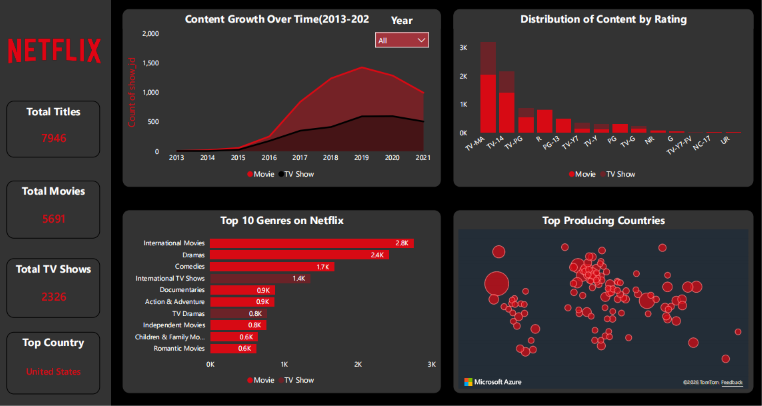

The page's visual inventory and layout, read from the dashboard file:
{"tool":"powerbi","page":{"name":"Netflix Content Overview Dashboard","canvas":[1350,720],"ordinal":0},"visuals":[{"type":"shape","box":[0,0,200,720],"z":0},{"type":"areaChart","title":"Content Growth Over Time(2013-2021)","fields":{"Y":["CountNonNull(netflix_titles.show_id)"],"Category":["netflix_titles.date_added.Variation.Date Hierarchy.Year"],"Series":["netflix_titles.type"]},"box":[218.8,19.2,563.7,316.2],"z":1000},{"type":"columnChart","title":"Distribution of Content by Rating ","fields":{"Category":["netflix_titles.rating"],"Y":["CountNonNull(netflix_titles.show_id)"],"Series":["netflix_titles.type"]},"box":[803.3,19.2,531.8,316.2],"z":2000},{"type":"barChart","title":"Top 10 Genres on Netflix","fields":{"Category":["netflix_listed_in.category"],"Series":["netflix_titles.type"],"Y":["CountNonNull(netflix_listed_in.show_id)"]},"box":[218.8,373.7,563.7,325.8],"z":3000},{"type":"azureMap","title":"Top Producing Countries","fields":{"Category":["countries_released.country"],"Size":["CountNonNull(countries_released.show_id)"]},"box":[803.3,373.7,531.8,325.8],"z":4000},{"type":"image","box":[0,0,200,181.7],"z":5000},{"type":"cardVisual","title":"Total Titles","fields":{"Data":["Count(countries_released.show_id)"]},"box":[15,181.7,165,100],"z":6000},{"type":"cardVisual","title":"Total Movies","fields":{"Data":["Count(countries_released.show_id)"]},"box":[15,323.3,165,101.7],"z":7000},{"type":"cardVisual","title":"Total TV Shows","fields":{"Data":["Count(netflix_cast.show_id)"]},"box":[15,460,165,105],"z":8000},{"type":"cardVisual","title":"Top Country","fields":{"Data":["Min(countries_released.country)"]},"box":[15,590,165,110],"z":9000},{"type":"slicer","title":"Year","fields":{"Values":["netflix_titles.date_added.Variation.Date Hierarchy.Year","netflix_titles.date_added.Variation.Date Hierarchy.Month"]},"box":[656.4,25.6,115,65.5],"z":10000}]}

Visuals, with their boxes in screenshot pixels (x1, y1, x2, y2), scaled from the page's 1350x720 canvas onto the 762x406 screenshot:
shape: locate(0, 0, 113, 405)
"Content Growth Over Time(2013-2021)" areaChart: locate(124, 11, 442, 189)
"Distribution of Content by Rating " columnChart: locate(453, 11, 754, 189)
"Top 10 Genres on Netflix" barChart: locate(124, 211, 442, 394)
"Top Producing Countries" azureMap: locate(453, 211, 754, 394)
image: locate(0, 0, 113, 102)
"Total Titles" cardVisual: locate(8, 102, 102, 159)
"Total Movies" cardVisual: locate(8, 182, 102, 240)
"Total TV Shows" cardVisual: locate(8, 259, 102, 319)
"Top Country" cardVisual: locate(8, 333, 102, 395)
"Year" slicer: locate(371, 14, 435, 51)
